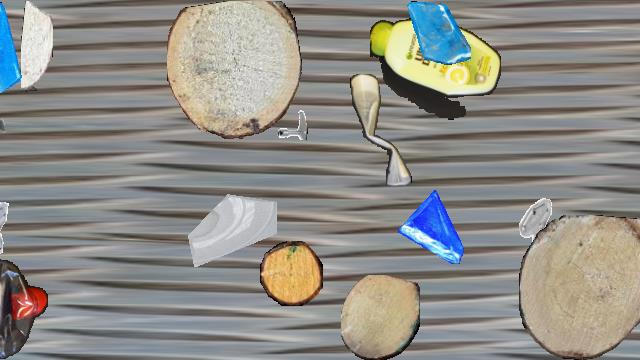glass: (184, 174, 276, 266), (398, 190, 472, 264), (407, 1, 471, 65), (0, 1, 26, 93)
metal: (505, 196, 565, 256), (266, 98, 308, 140), (0, 197, 18, 255), (0, 108, 7, 150)
plastic: (370, 18, 500, 120), (350, 74, 412, 186), (0, 245, 48, 359)
wood: (167, 1, 301, 139), (519, 215, 640, 359), (341, 275, 419, 359), (260, 241, 322, 305), (21, 1, 53, 91)
